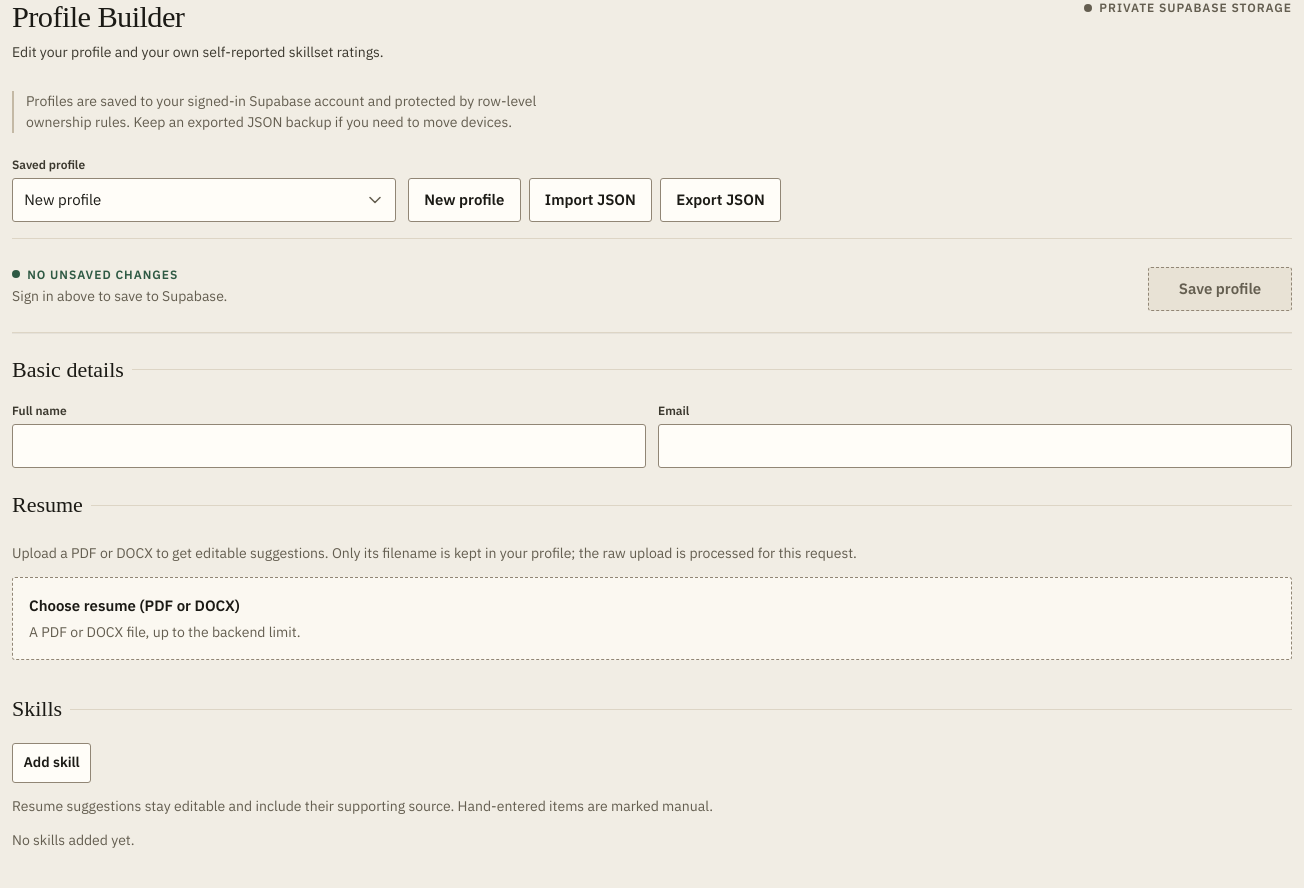
Test: Profile Builder › marks unsaved edits and blocks saving until Supabase sign-in
Expected: the text "No unsaved changes" is shown, [27,267,178,282]
Step 1. Type "Ada Lovelace" into the field labelled "Full name" → (329, 446), box [12,424,646,468]
(page scrolled)
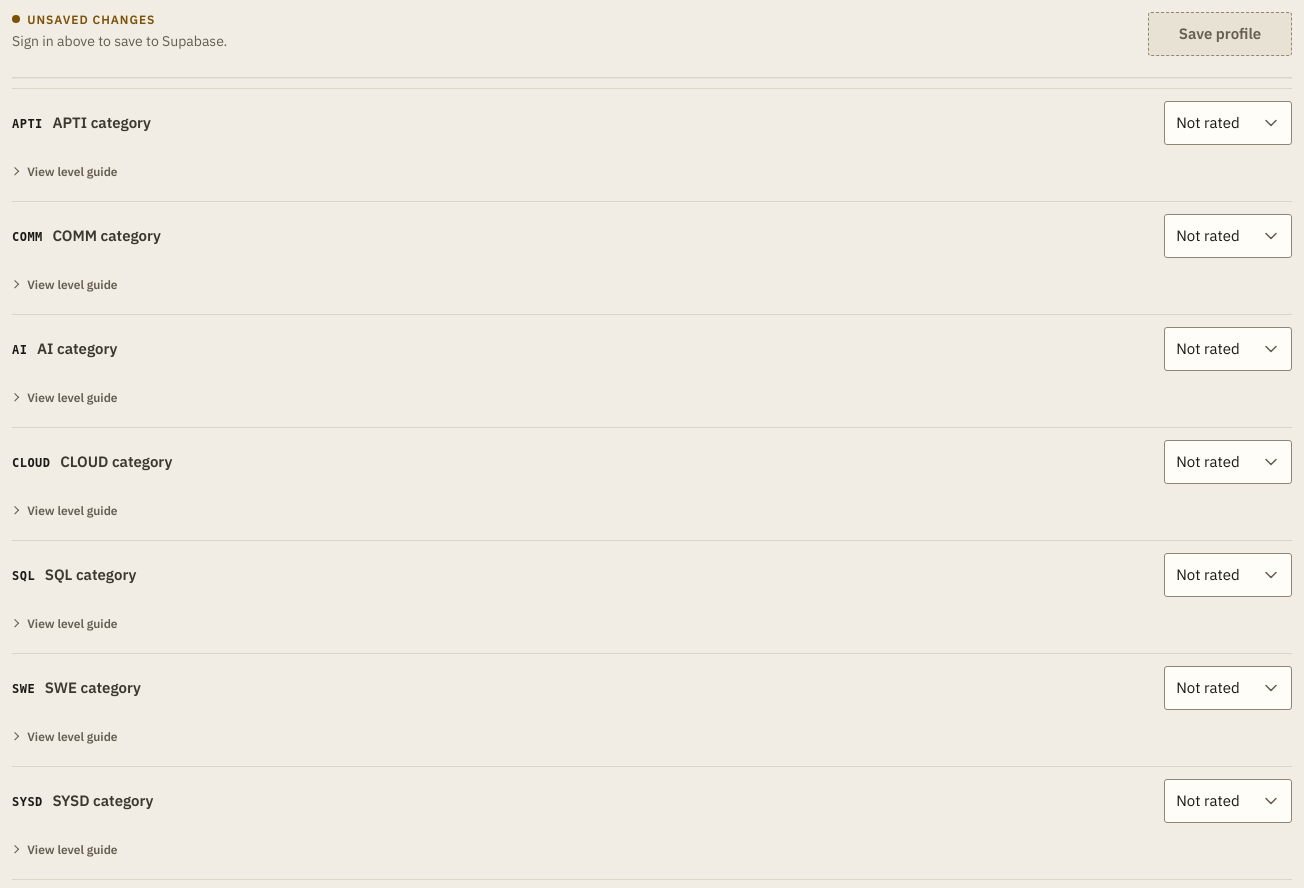
Expected: the text "Unsaved changes" is shown, [27,12,155,27]
Expected: the button "Save profile" is disabled, [1148,12,1292,56]
Step 2. Submit the form named "Full name"
(page scrolled)
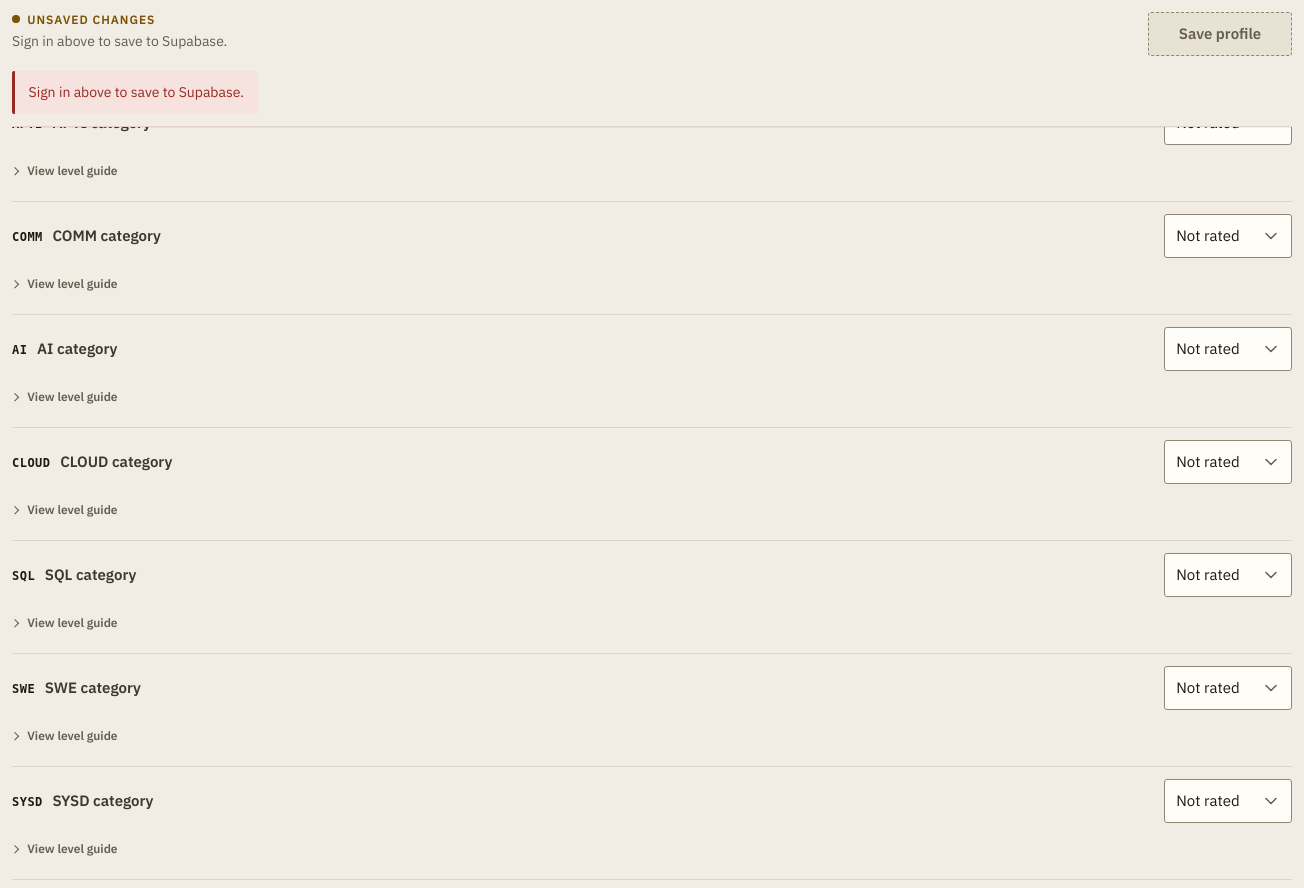
Expected: the message shows "Sign in above to save", [29,83,244,101]
